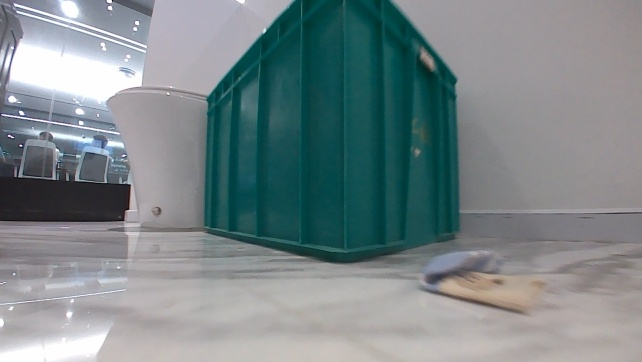socks: (415, 248, 548, 314)
toilet: (100, 85, 210, 232)
